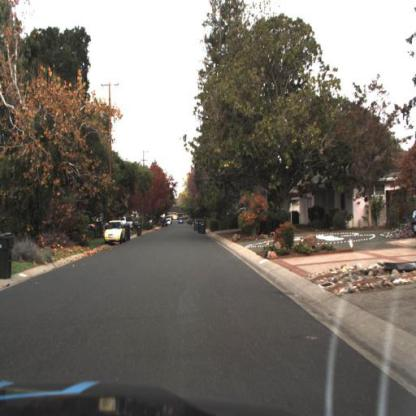car: (106, 216, 131, 244), (84, 212, 102, 233)
